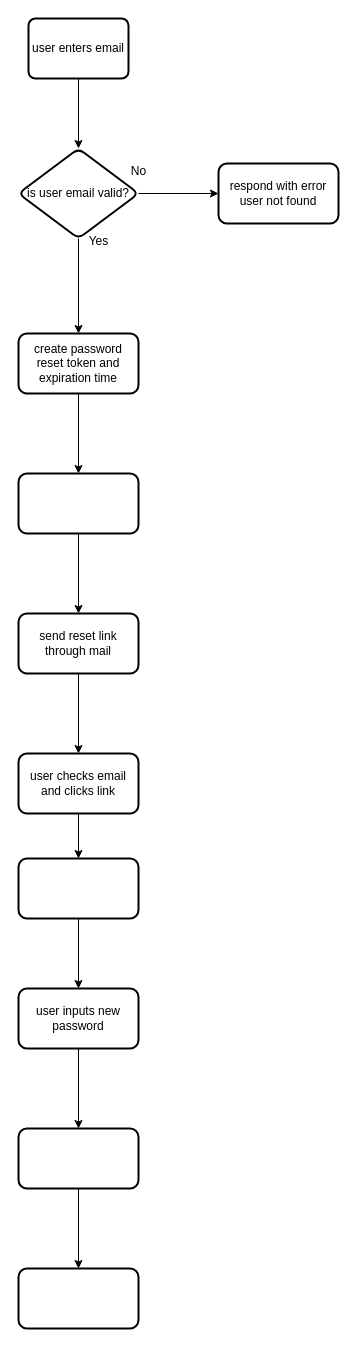
Some shapes in this 356 by 1346 pixel diagram are drawn without their labels. The centre of each missing label's shape, as x and y in pixels:
"rest token and expiration date set to undefined" goes at point 78,1158.
"save user info" goes at point 78,503.
"user is directed to password reset page" goes at point 78,888.
